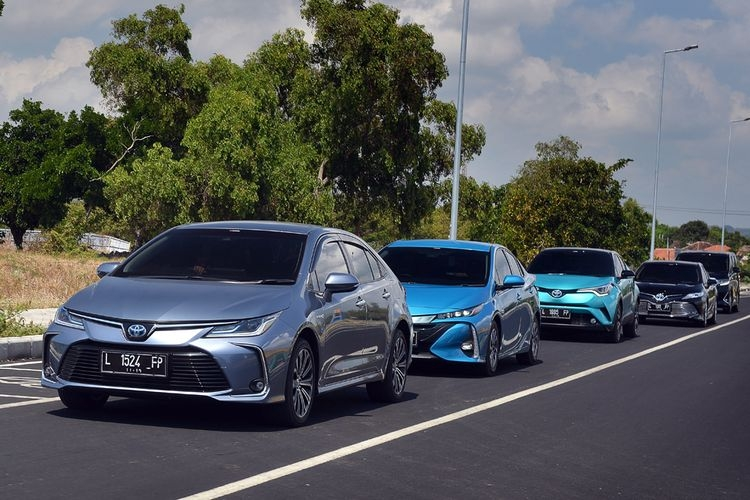plate: (102, 351, 167, 379), (539, 308, 569, 319), (648, 303, 671, 313)
